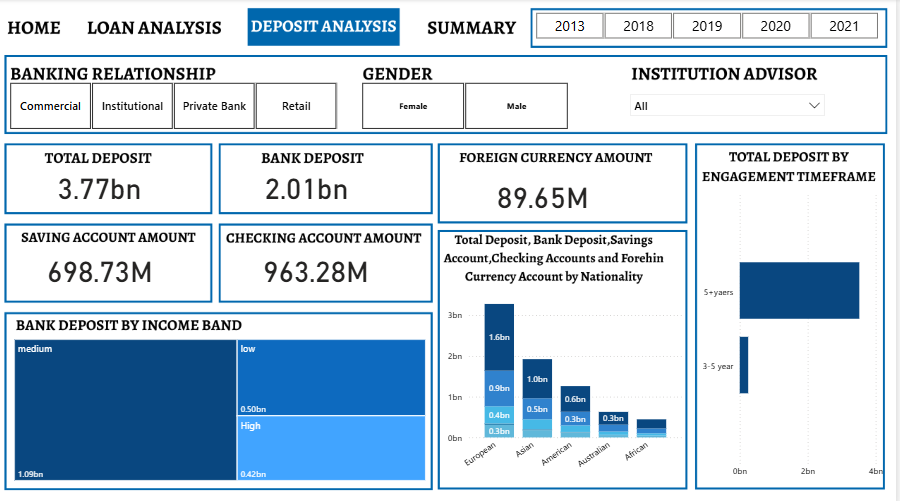

The dashboard page shown, as its layout file describes it:
{"tool":"powerbi","page":{"name":"Page 3","canvas":[1280,720],"ordinal":2},"visuals":[{"type":"actionButton","box":[12.8,17,100.6,39.7],"z":0},{"type":"actionButton","box":[123.3,17,212.6,39.7],"z":1000},{"type":"actionButton","box":[608,17,140.3,39.7],"z":2000},{"type":"slicer","fields":{"Values":["Banking.BRId"]},"box":[0,112.5,512.3,79],"z":3000},{"type":"slicer","fields":{"Values":["Banking.GenderId"]},"box":[498.9,112.5,341,79],"z":4000},{"type":"slicer","fields":{"Values":["Banking.IAId"]},"box":[893.6,124.3,295.6,79],"z":5000},{"type":"slicer","fields":{"Values":["Banking.year of joining"]},"box":[745.8,13.4,534.2,50.4],"z":6000},{"type":"card","fields":{"Values":["Banking.total deposit"]},"box":[12.8,219.7,279.2,89.3],"z":7000},{"type":"card","fields":{"Values":["Sum(Banking.Bank Deposits)"]},"box":[306.1,219.7,279.2,89.3],"z":8000},{"type":"card","fields":{"Values":["Sum(Banking.Saving Accounts)"]},"box":[12.8,337.3,279.2,89.3],"z":9000},{"type":"card","fields":{"Values":["Sum(Banking.Checking Accounts)"]},"box":[318.9,337.3,279.2,89.3],"z":10000},{"type":"card","fields":{"Values":["Sum(Banking.Foreign Currency Account)"]},"box":[640.6,232.4,279.2,89.3],"z":11000},{"type":"treemap","fields":{"Group":["Banking.Income band"],"Values":["Sum(Banking.Bank Deposits)"]},"box":[26.9,477.6,592.4,209.8],"z":12000},{"type":"columnChart","fields":{"Category":["Banking.Nationality"],"Y":["Sum(Banking.Saving Accounts)","Sum(Banking.Foreign Currency Account)","Sum(Banking.Checking Accounts)","Sum(Banking.Bank Deposits)","Banking.total deposit"]},"box":[640.6,405.4,343,282],"z":13000},{"type":"barChart","fields":{"Category":["Banking.Enagement timeframe"],"Y":["Banking.total deposit"]},"box":[997.8,265,270.7,422.4],"z":14000}]}

Visuals, with their boxes in screenshot pixels (x1, y1, x2, y2), scaled from the page's 1280x720 canvas onto the 900x501 screenshot:
actionButton: {"x1": 9, "y1": 12, "x2": 80, "y2": 39}
actionButton: {"x1": 87, "y1": 12, "x2": 236, "y2": 39}
actionButton: {"x1": 428, "y1": 12, "x2": 526, "y2": 39}
slicer - Banking.BRId: {"x1": 0, "y1": 78, "x2": 360, "y2": 133}
slicer - Banking.GenderId: {"x1": 351, "y1": 78, "x2": 591, "y2": 133}
slicer - Banking.IAId: {"x1": 628, "y1": 86, "x2": 836, "y2": 141}
slicer - Banking.year of joining: {"x1": 524, "y1": 9, "x2": 899, "y2": 44}
card - Banking.total deposit: {"x1": 9, "y1": 153, "x2": 205, "y2": 215}
card - Sum(Banking.Bank Deposits): {"x1": 215, "y1": 153, "x2": 412, "y2": 215}
card - Sum(Banking.Saving Accounts): {"x1": 9, "y1": 235, "x2": 205, "y2": 297}
card - Sum(Banking.Checking Accounts): {"x1": 224, "y1": 235, "x2": 421, "y2": 297}
card - Sum(Banking.Foreign Currency Account): {"x1": 450, "y1": 162, "x2": 647, "y2": 224}
treemap - Banking.Income band x Sum(Banking.Bank Deposits): {"x1": 19, "y1": 332, "x2": 435, "y2": 478}
columnChart - Banking.Nationality x Sum(Banking.Saving Accounts): {"x1": 450, "y1": 282, "x2": 692, "y2": 478}
barChart - Banking.Enagement timeframe x Banking.total deposit: {"x1": 702, "y1": 184, "x2": 892, "y2": 478}
